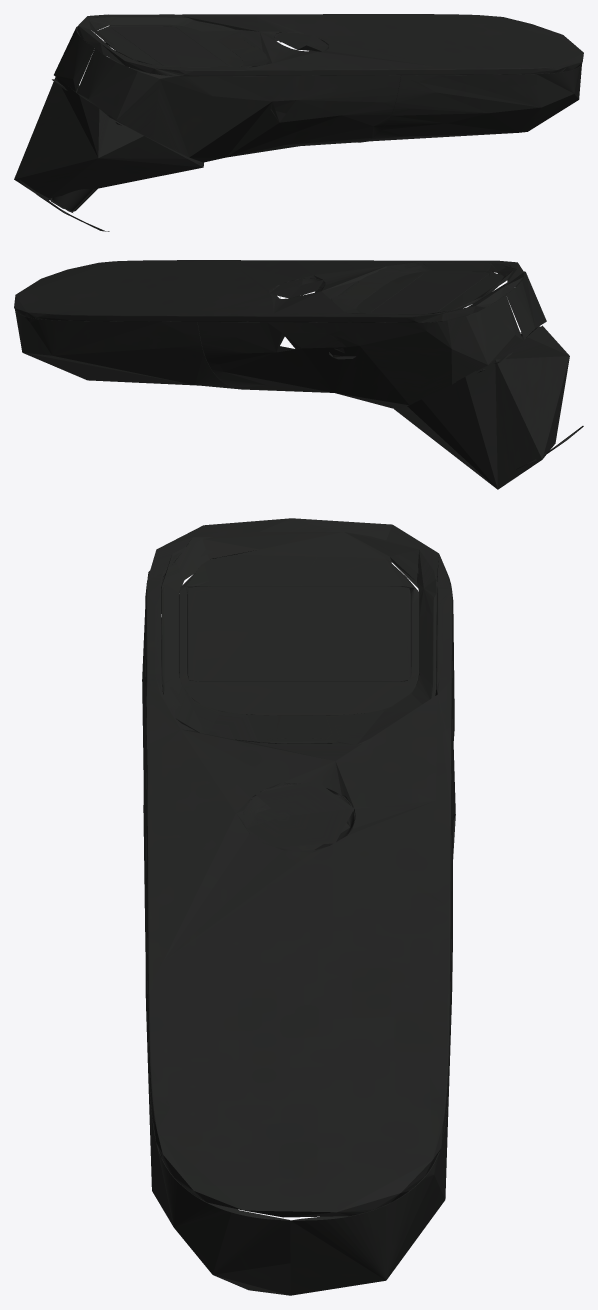
Rendered from thermometer_fever_a01.glb.
3 renders of one model, top to bottom at view 1: azimuth 30°, elevation 25°; view 2: azimuth 150°, elevation 25°; view 3: azimuth 270°, elevation 25°, orthographic. The views are drawn at different scales.
Visible parts, largest first — view 1: geometry_0; view 2: geometry_0; view 3: geometry_0.
Part boxes in pixels (box(x1,y1,x2,y2)): geometry_0: box(14, 14, 583, 231); geometry_0: box(14, 260, 583, 489); geometry_0: box(142, 518, 455, 1295).
Size of the model in its own units: 0.42 by 0.1373 by 0.1064.
1 material, 1 textured.
